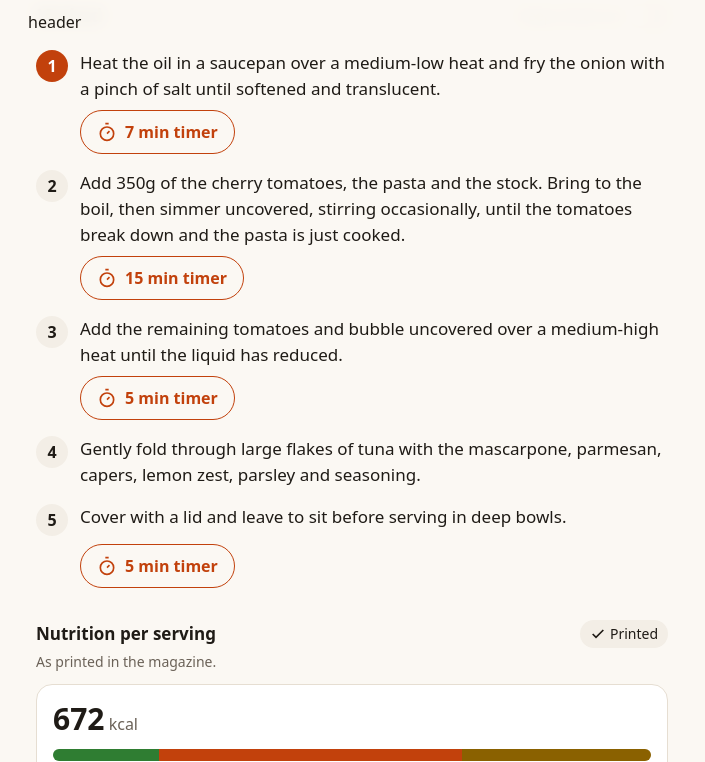
Test case: step timers (recipe design D, PP-178) › shows the right time after the phone was locked (acceptance criteria)
(page scrolled)
Click the 1st button "5 min timer": [157, 398] box x1=80 y1=376 x2=235 y2=420
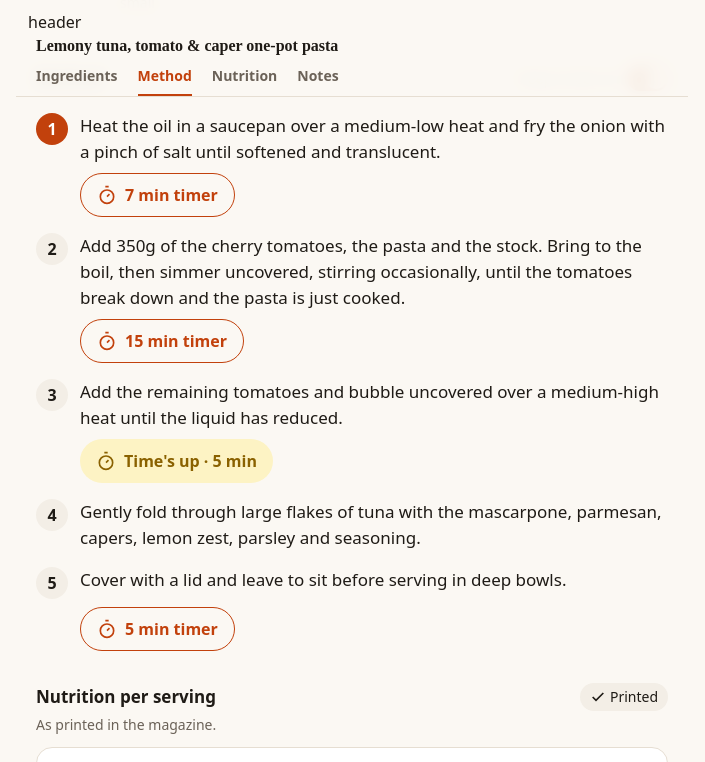
Check: the button "Time's up · 5 min" is shown, box x1=80 y1=439 x2=273 y2=483
